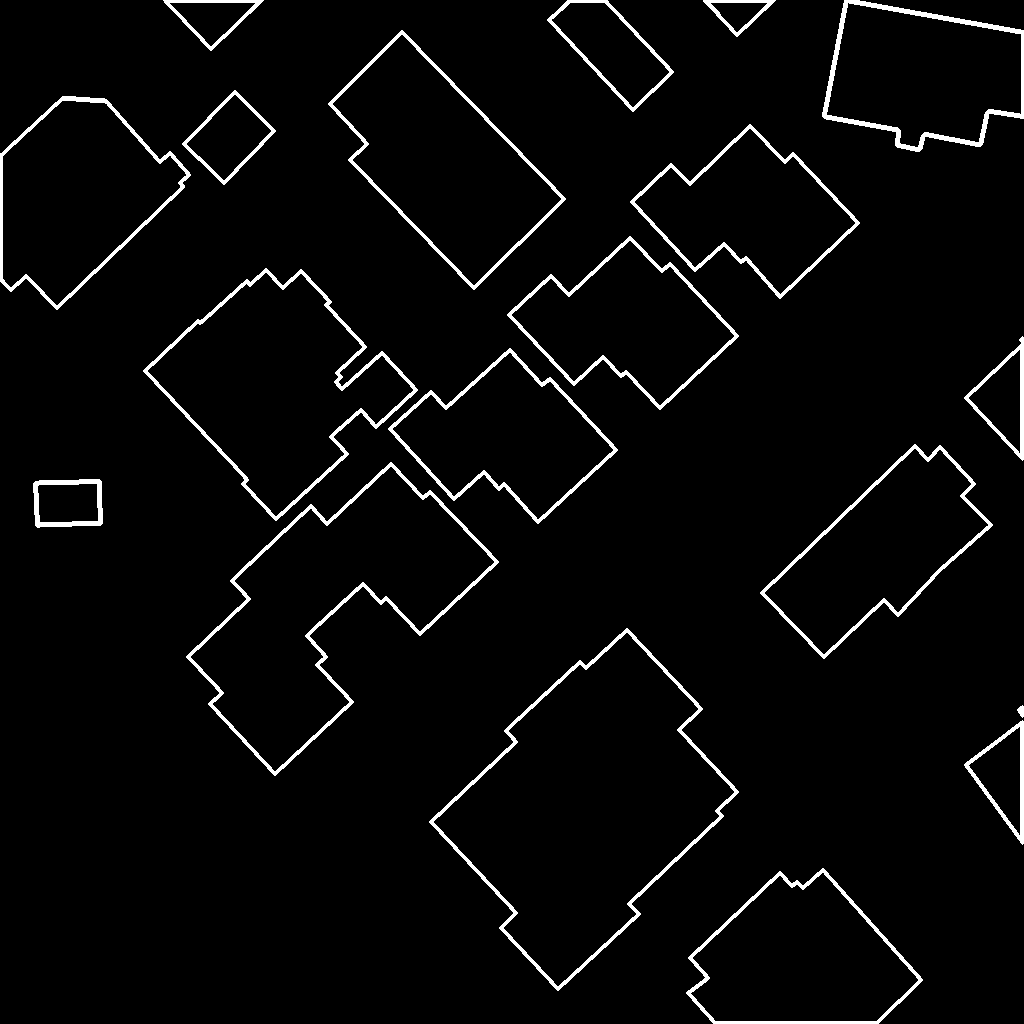building: (431, 630, 738, 990), (188, 464, 498, 775), (145, 270, 417, 520), (330, 32, 565, 289), (762, 446, 992, 658), (0, 98, 190, 309), (390, 350, 617, 523), (509, 238, 738, 409), (632, 126, 859, 298), (688, 870, 922, 1024), (824, 0, 1024, 151), (549, 0, 673, 111), (184, 92, 275, 184), (966, 707, 1024, 844), (966, 338, 1024, 460), (164, 0, 263, 50), (35, 481, 102, 526), (704, 0, 775, 36)
